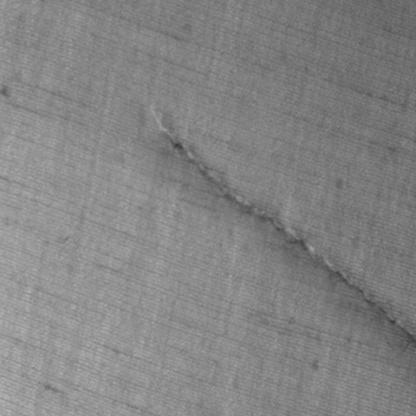objects: (146, 106, 416, 352)
